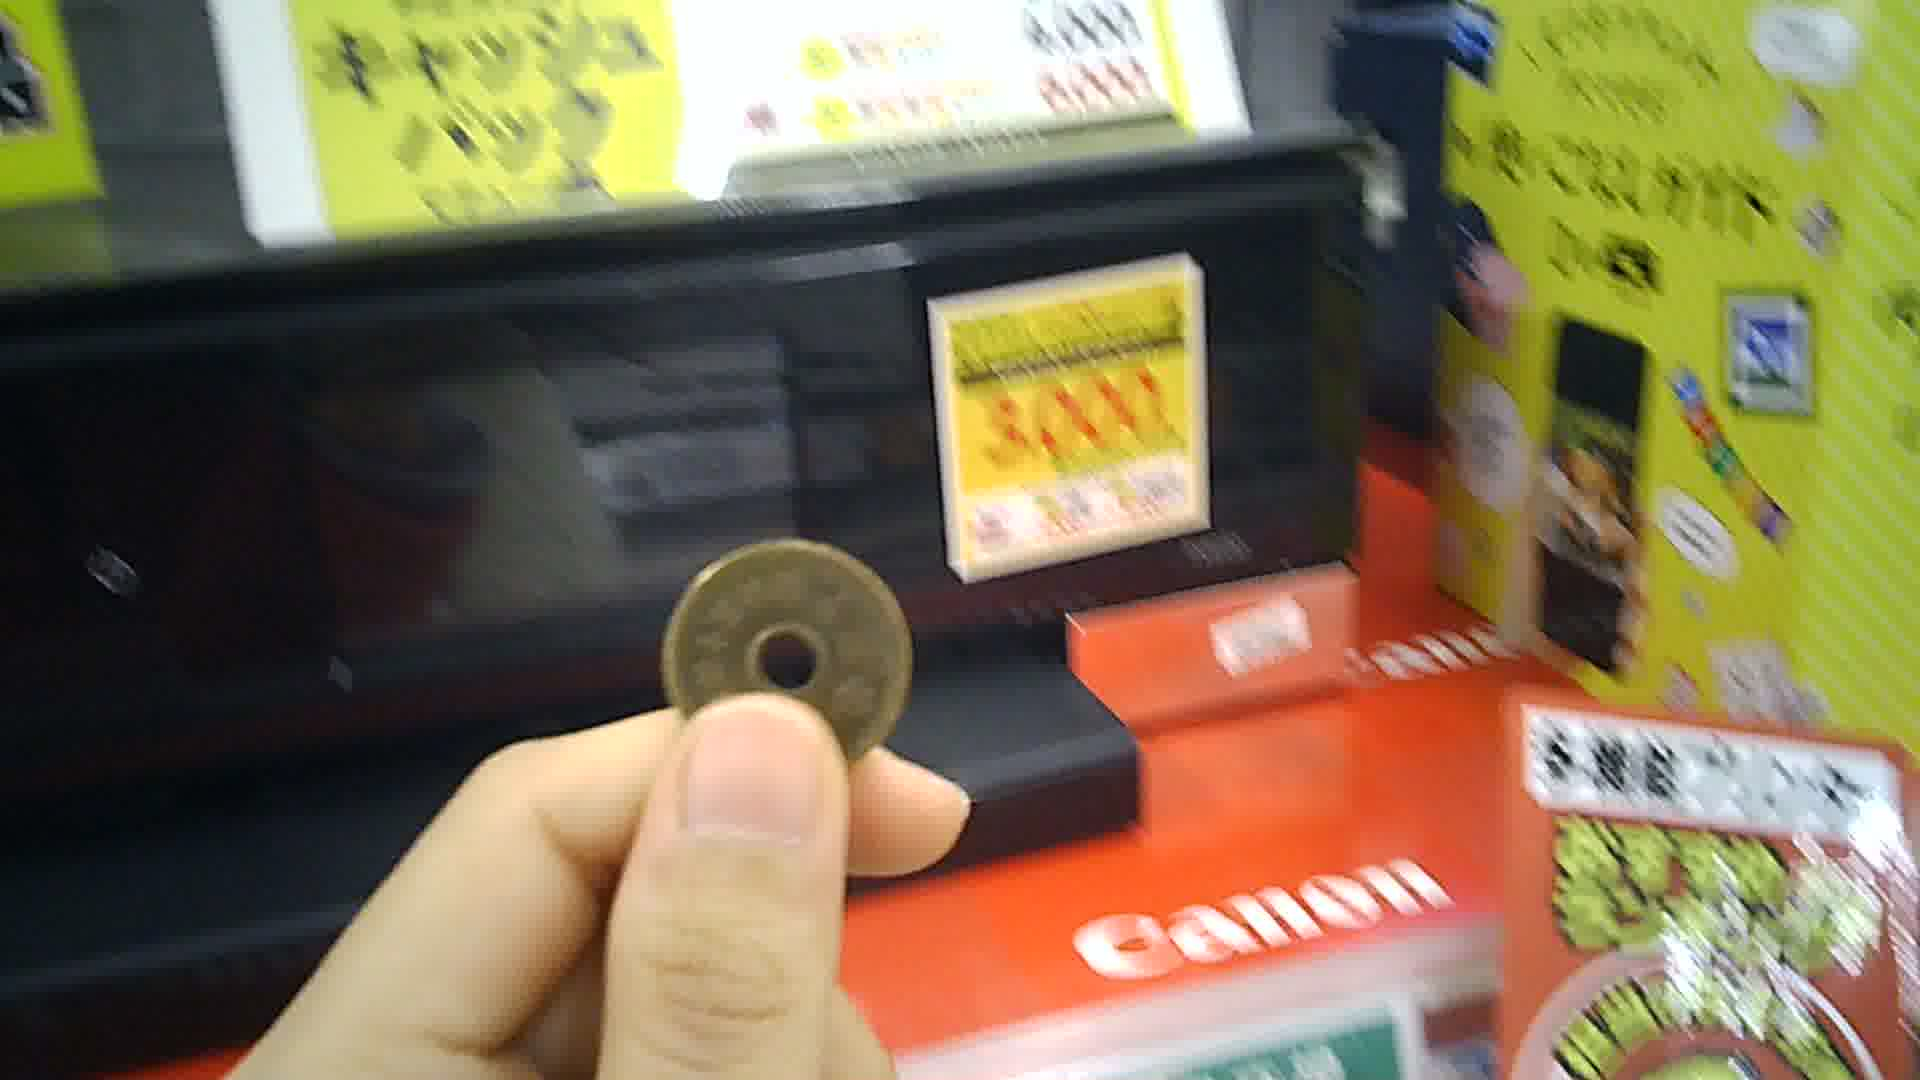5 Yen: (662, 535, 909, 767)
